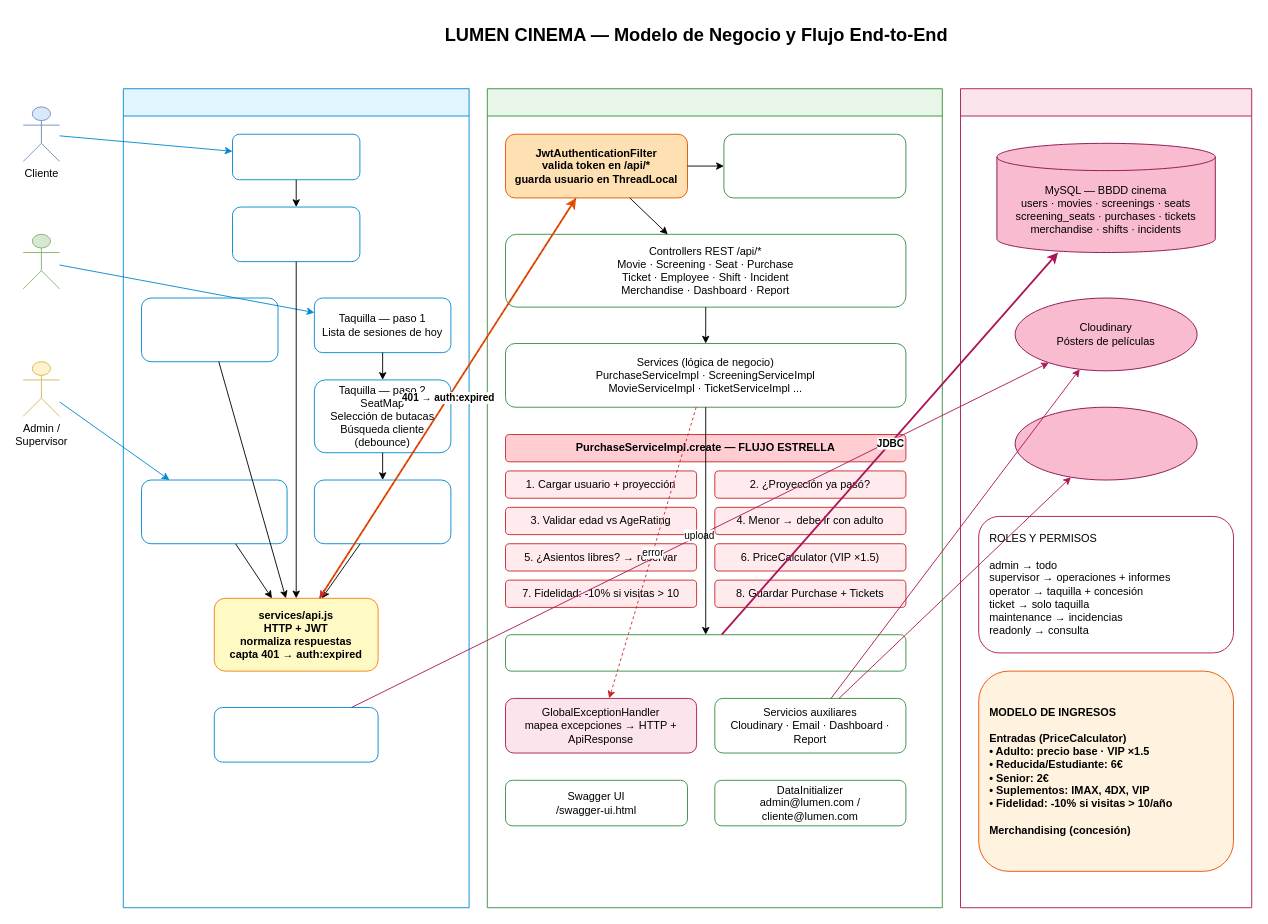
This 1268x924 diagram has some shape labels left out. Here are the shapes that lost their labels. From the top down, the box of each, then its label:
(232, 133, 360, 180): Login (email + password)
(723, 133, 906, 198): AuthController POST /api/auth/login → AuthServiceImpl
(232, 206, 360, 262): AuthContext guarda token JWT en localStorage
(22, 233, 60, 289): Empleado Taquilla
(141, 297, 278, 362): Dashboard KPIs · Gráficos (5 fetch en paralelo)
(1014, 406, 1197, 480): SMTP Gmail Emails de confirmación
(141, 479, 287, 544): CRUDs Películas · Salas · Horarios Empleados · Clientes · Inventario
(122, 88, 469, 908): FRONTEND (React 19 + Vite)
(313, 479, 451, 544): Taquilla — paso 3 Pago + tickets QR (qrcode.react)
(486, 88, 942, 908): BACKEND (Spring Boot 4 + Java 25)
(960, 88, 1252, 908): INFRAESTRUCTURA / EXTERNO
(505, 634, 906, 671): Repositories (Spring Data JPA)
(213, 707, 378, 762): cloudinaryService sube pósters devuelve URL segura
